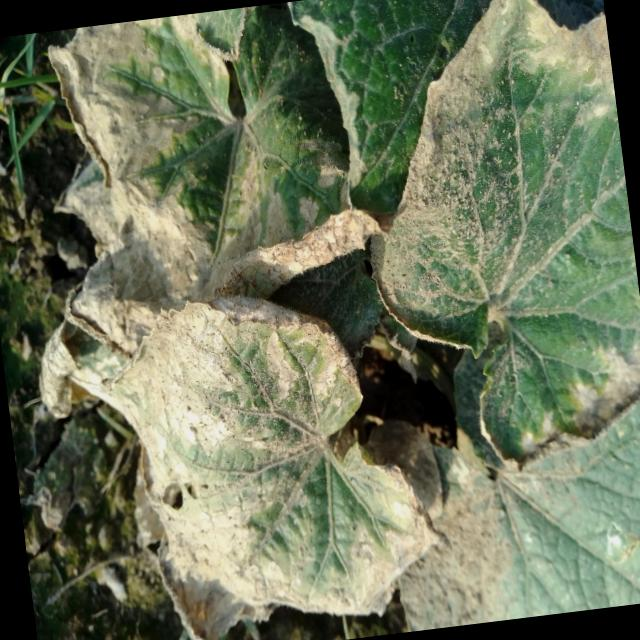cucumber_bacterial: (46, 276, 445, 640), (328, 0, 640, 465), (14, 0, 390, 354), (380, 425, 640, 624)
